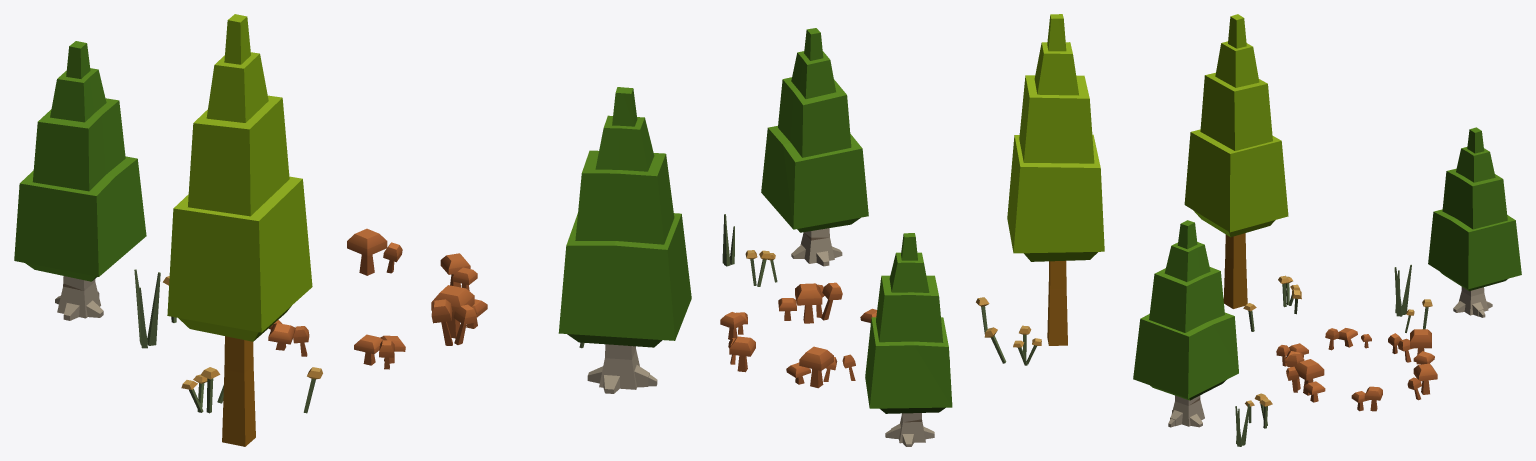
Rendered from SF_Env_Elven_Preset_02.fbx.
3 renders of one model, left to right at view 1: azimuth 30°, elevation 25°; view 2: azimuth 150°, elevation 25°; view 3: azimuth 270°, elevation 25°, orthographic. The views are drawn at different scales.
Visible parts, largest first — view 1: SF_Env_Elven_Preset_02; view 2: SF_Env_Elven_Preset_02; view 3: SF_Env_Elven_Preset_02.
Boxes of the visible parts, x1,y1,x2,y2 form: SF_Env_Elven_Preset_02: [14, 14, 691, 446]; SF_Env_Elven_Preset_02: [720, 14, 1104, 446]; SF_Env_Elven_Preset_02: [1133, 14, 1521, 446].
Size of the model in its own units: 15.7 by 12.79 by 15.63.
